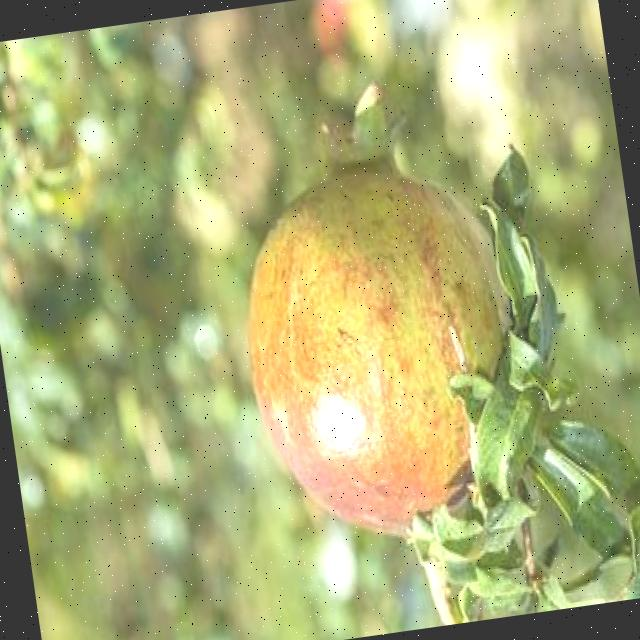Pomegranate: (212, 67, 544, 560)
